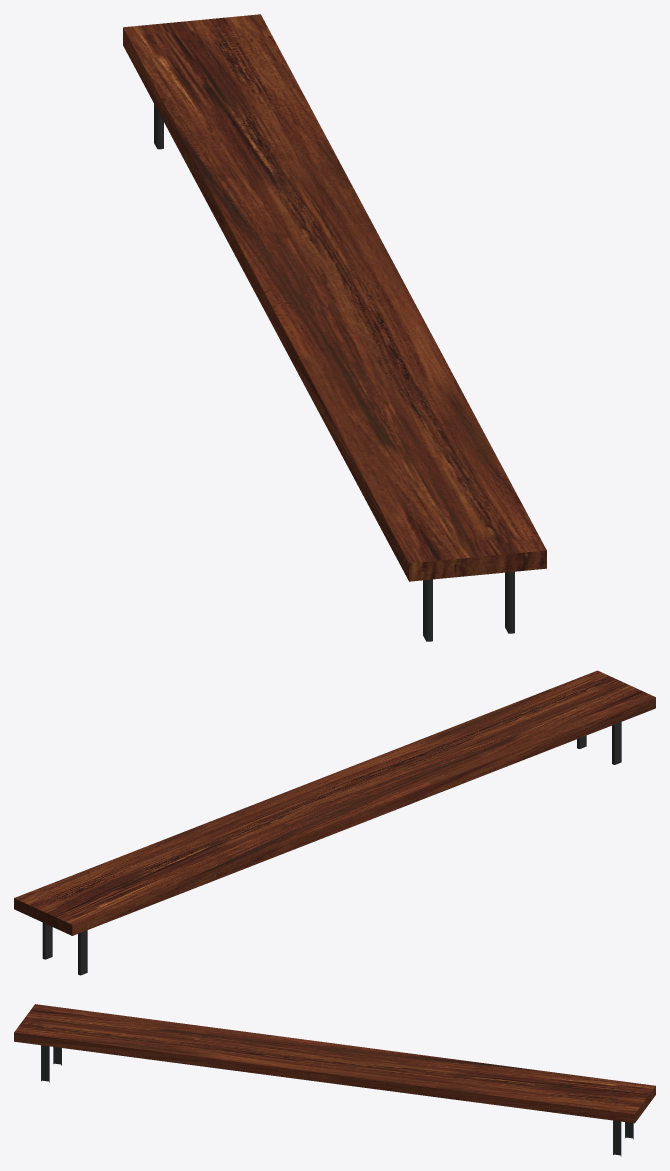
The model's file is banca1.glb.
3 views of the same model, one above another, from view 1: azimuth 30°, elevation 25°; view 2: azimuth 150°, elevation 25°; view 3: azimuth 270°, elevation 25° (orthographic). The views are drawn at different scales.
Visible parts, largest first — view 1: banca1; view 2: banca1; view 3: banca1.
Boxes of the visible parts, <box> form: banca1: <box>123,14,546,641</box>; banca1: <box>14,670,655,975</box>; banca1: <box>14,1004,655,1156</box>.
Size of the model in its own units: 13.51 by 2.9 by 33.27.
Materials: 2 (1 with a texture image).
